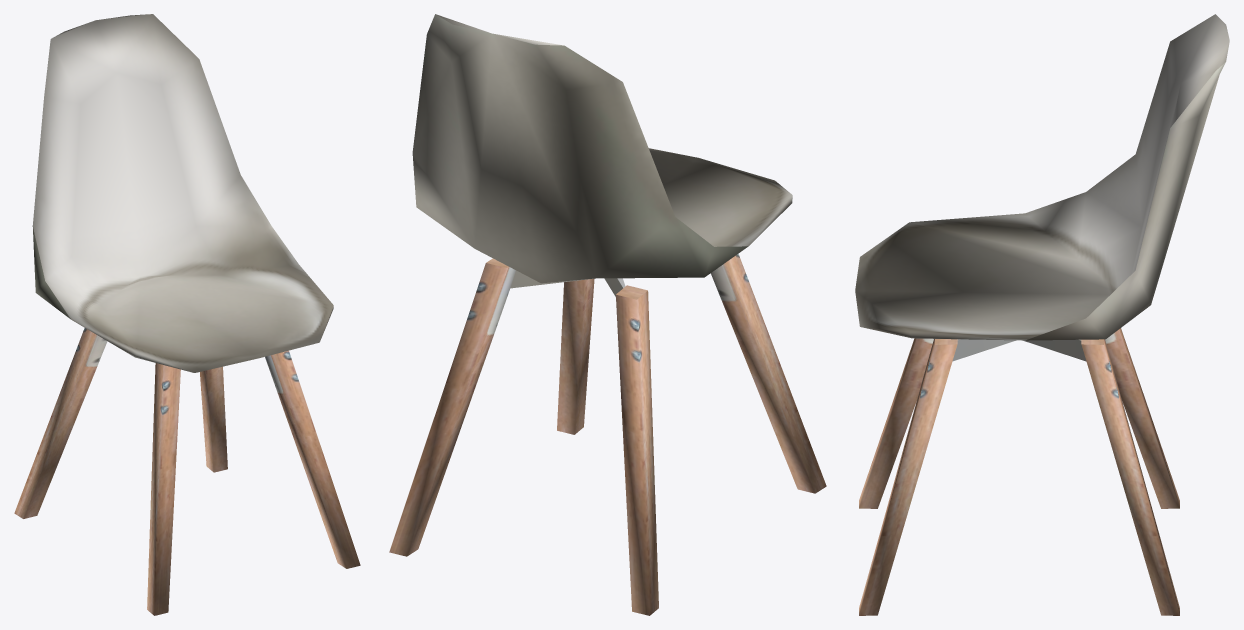
The model's file is chair_white.glb.
3 renders of one model, left to right at view 1: azimuth 30°, elevation 25°; view 2: azimuth 150°, elevation 25°; view 3: azimuth 270°, elevation 25°, orthographic. The views are drawn at different scales.
Visible parts, largest first — view 1: chair; view 2: chair; view 3: chair.
Boxes of the visible parts, x1=… form: chair: x1=14, y1=14, x2=360, y2=615; chair: x1=389, y1=14, x2=826, y2=615; chair: x1=855, y1=14, x2=1229, y2=615.
Size of the model in its own units: 1.14 by 2.15 by 1.41.
1 material, 1 textured.
